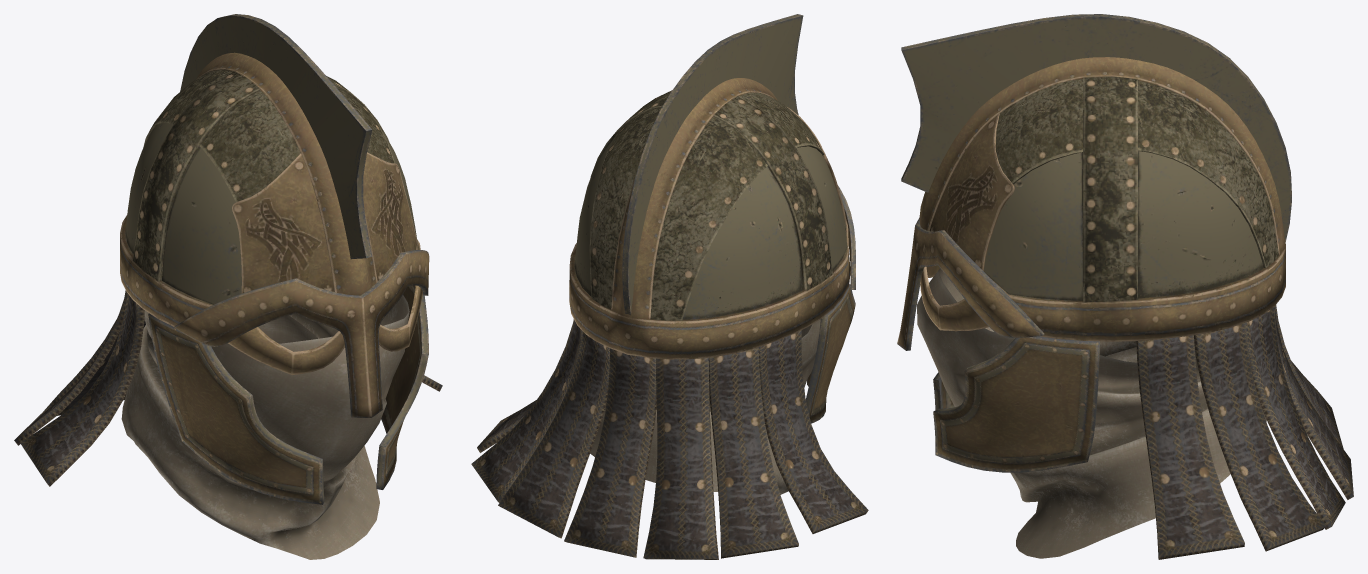
The model's file is dunland_wulf_helmet_lord_e.fbx.
The picture shows the model from 3 angles, left to right: view 1: azimuth 30°, elevation 25°; view 2: azimuth 150°, elevation 25°; view 3: azimuth 270°, elevation 25°; orthographic projection. The views are drawn at different scales.
Visible parts, largest first — view 1: dunland_wulf_helmet_lord_e; view 2: dunland_wulf_helmet_lord_e; view 3: dunland_wulf_helmet_lord_e.
Boxes of the visible parts, x1=… form: dunland_wulf_helmet_lord_e: x1=14, y1=14, x2=442, y2=559; dunland_wulf_helmet_lord_e: x1=471, y1=14, x2=868, y2=559; dunland_wulf_helmet_lord_e: x1=897, y1=14, x2=1353, y2=559.
Bounding box in the file's own units: 0.3217 × 0.3109 × 0.3904.
1 material, 1 textured.
